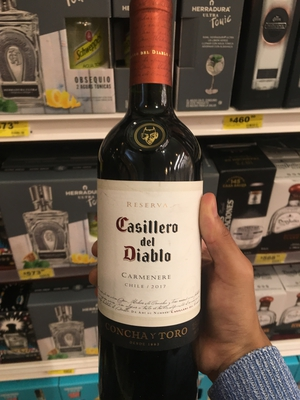casillero del diablo carmenere: (94, 6, 228, 387)
